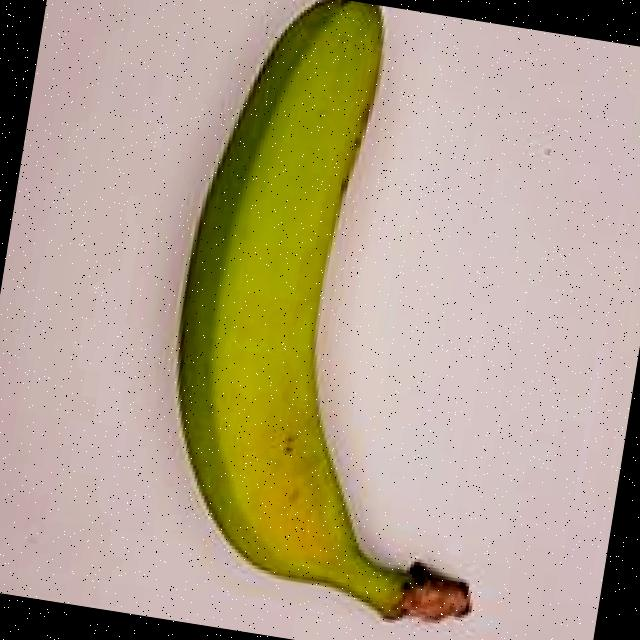Unripe: (116, 0, 603, 640)
